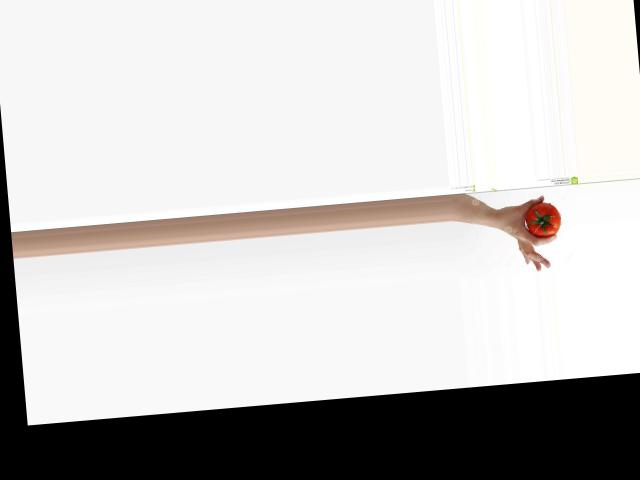tomato: (524, 201, 562, 238)
